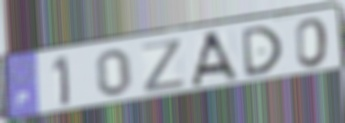0: (94, 47, 136, 99), (294, 17, 329, 69)
1: (50, 53, 72, 108)
A: (188, 29, 241, 88)
D: (239, 24, 285, 80)
Z: (140, 37, 190, 95)
